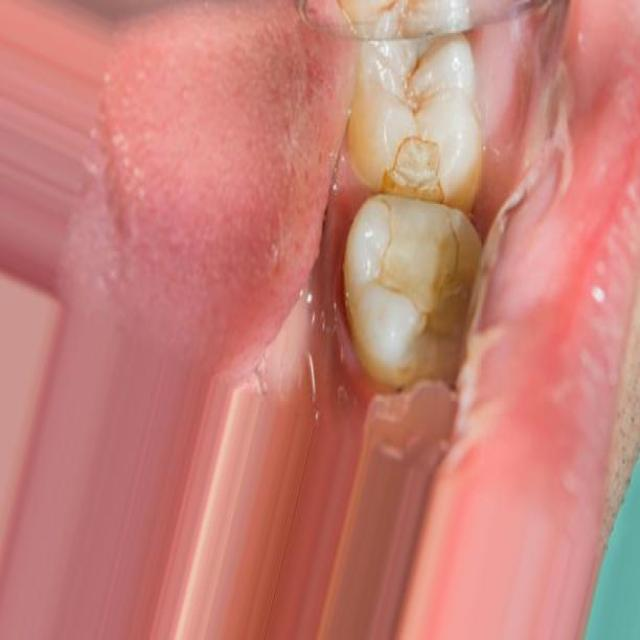caries: (374, 115, 478, 355)
